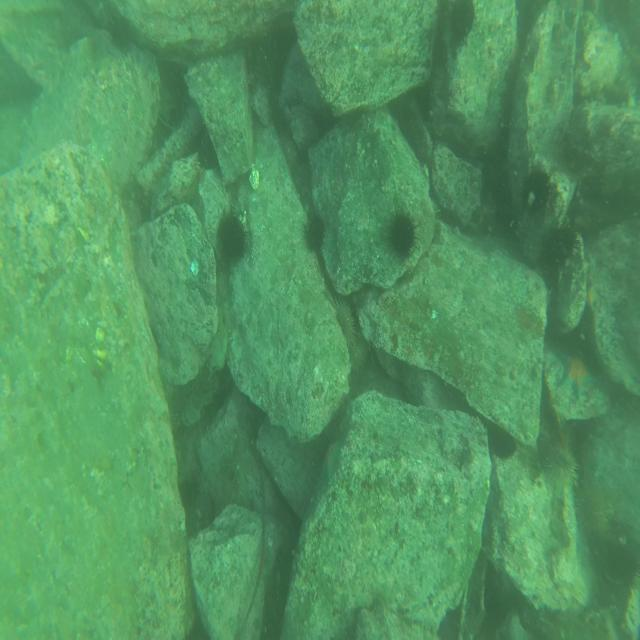echinus: (216, 212, 247, 264), (545, 444, 577, 487), (524, 167, 552, 215), (389, 213, 418, 257), (333, 299, 358, 350), (489, 425, 518, 462), (302, 209, 326, 251)
starfish: (560, 348, 596, 398)
